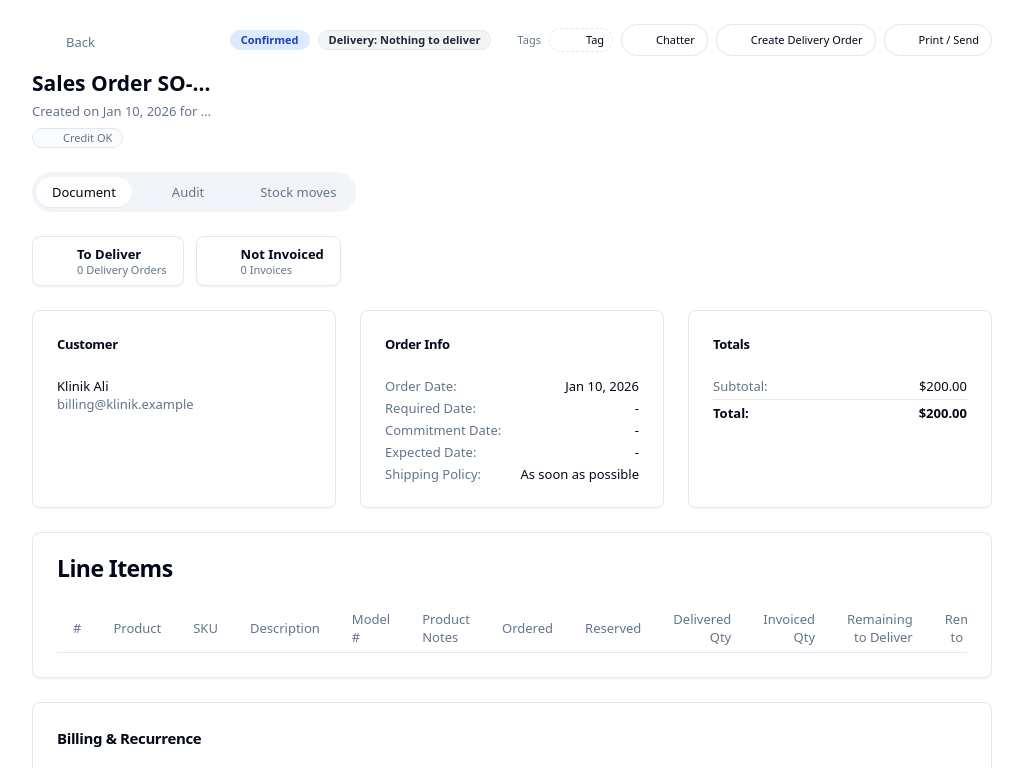
Scenario: SalesOrderDetailPage — pro-forma invoice toggle (#551) › keeps the pro-forma invoice when the toggle is on
The width and height of the screenshot is (1024, 768).
Expected: the heading "Sales Order SO-2026-0005" is shown, [32,68,214,98]
Press the mouse on the button "Print / Send" at [938, 40], box [884,24,992,56]
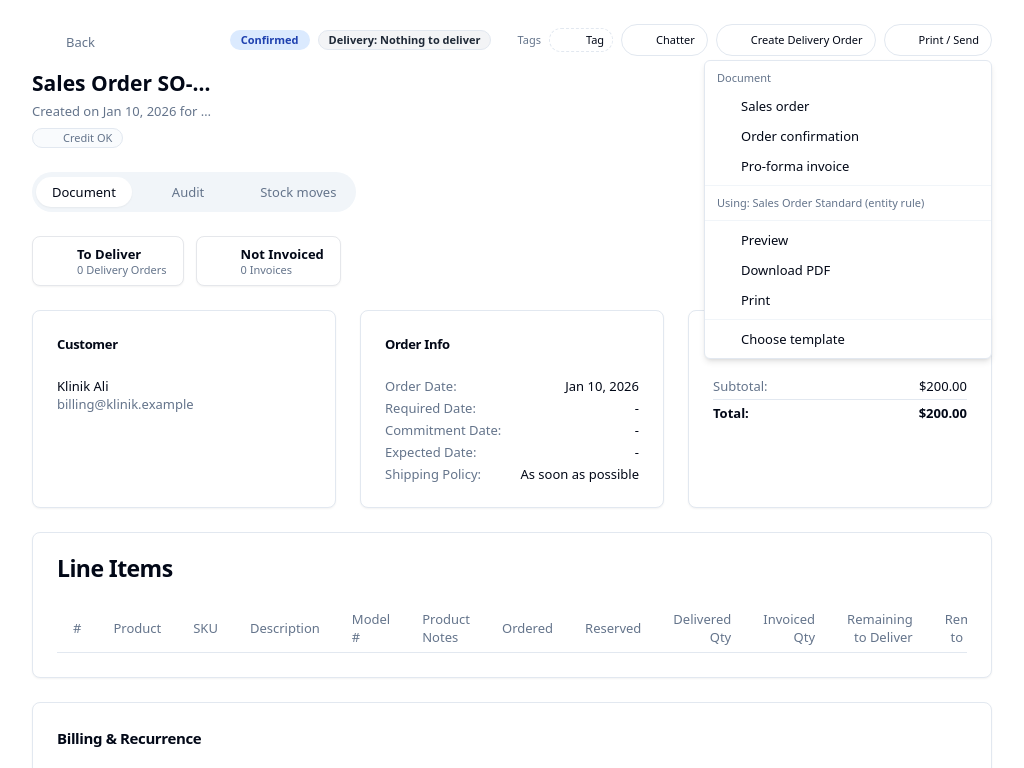
Result: the menu item "Preview" is shown at [717,231,788,249]
Result: the menu item "Pro-forma invoice" is shown at [741,157,849,175]
